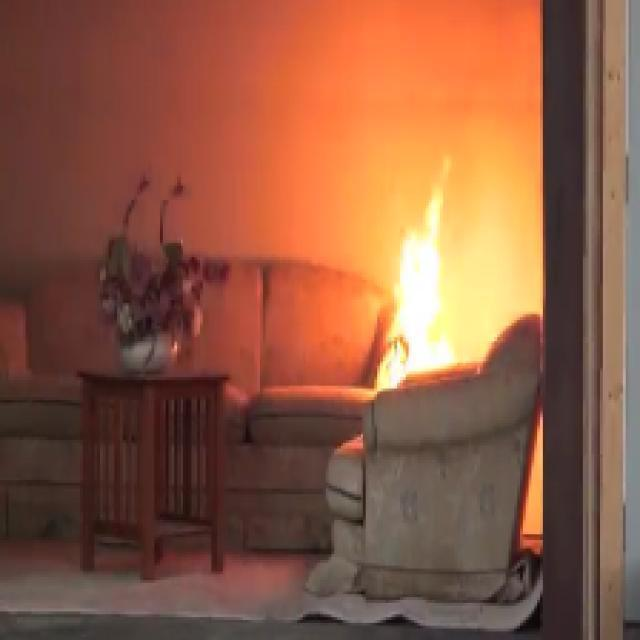Fire: (370, 188, 488, 416)
